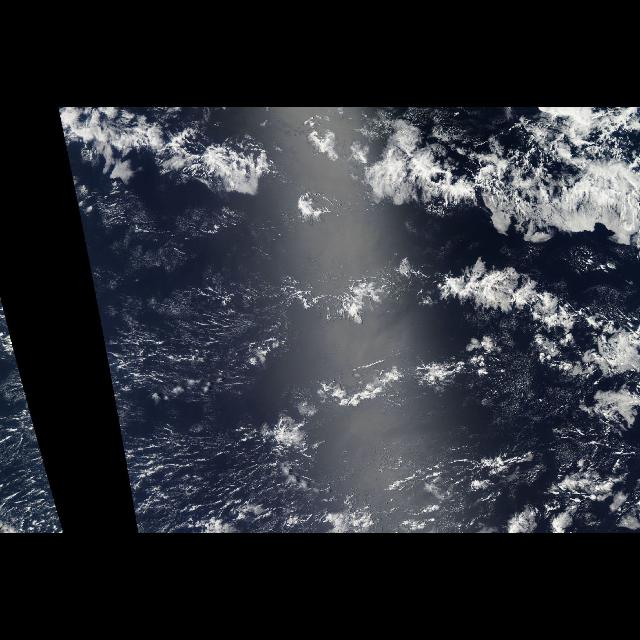Fish: (61, 120, 287, 200)
Gravel: (83, 215, 269, 529)
Sugar: (92, 271, 340, 534)
